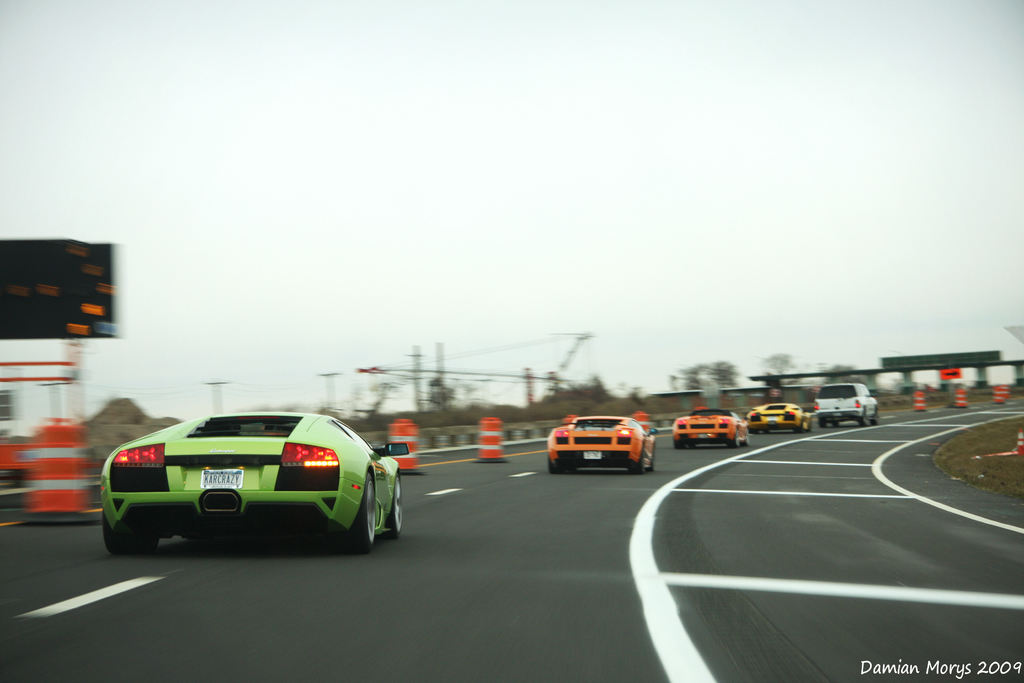cars: (102, 402, 391, 558), (548, 411, 665, 474), (671, 406, 752, 450), (816, 382, 880, 427), (744, 398, 815, 432)
